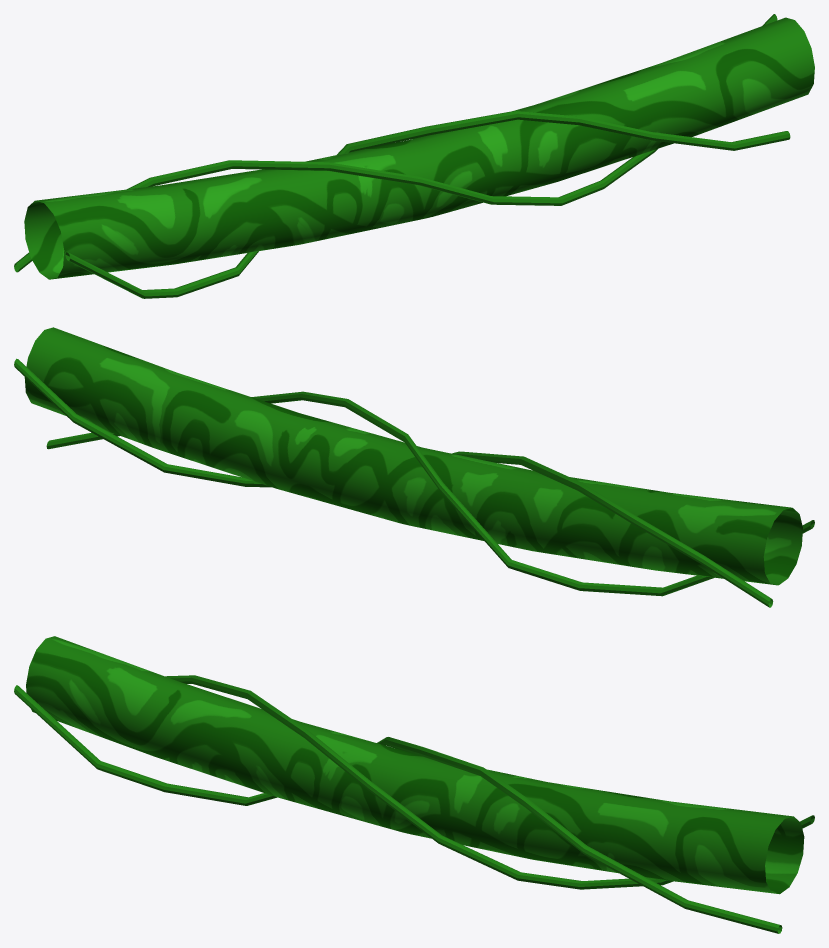
File: 80x10 Vines.fbx
The picture shows the model from 3 angles, top to bottom: view 1: azimuth 30°, elevation 25°; view 2: azimuth 150°, elevation 25°; view 3: azimuth 330°, elevation 25°; orthographic projection.
Parts seen in each view (by area): view 1: polySurface1; view 2: polySurface1; view 3: polySurface1.
Boxes of the visible parts, box(x1,y1,x2,y2) form: polySurface1: box(14, 14, 814, 298); polySurface1: box(14, 327, 814, 607); polySurface1: box(14, 636, 814, 933).
Bounding box in the file's own units: 81.02 × 12.79 × 10.66.
1 material, 1 textured.
